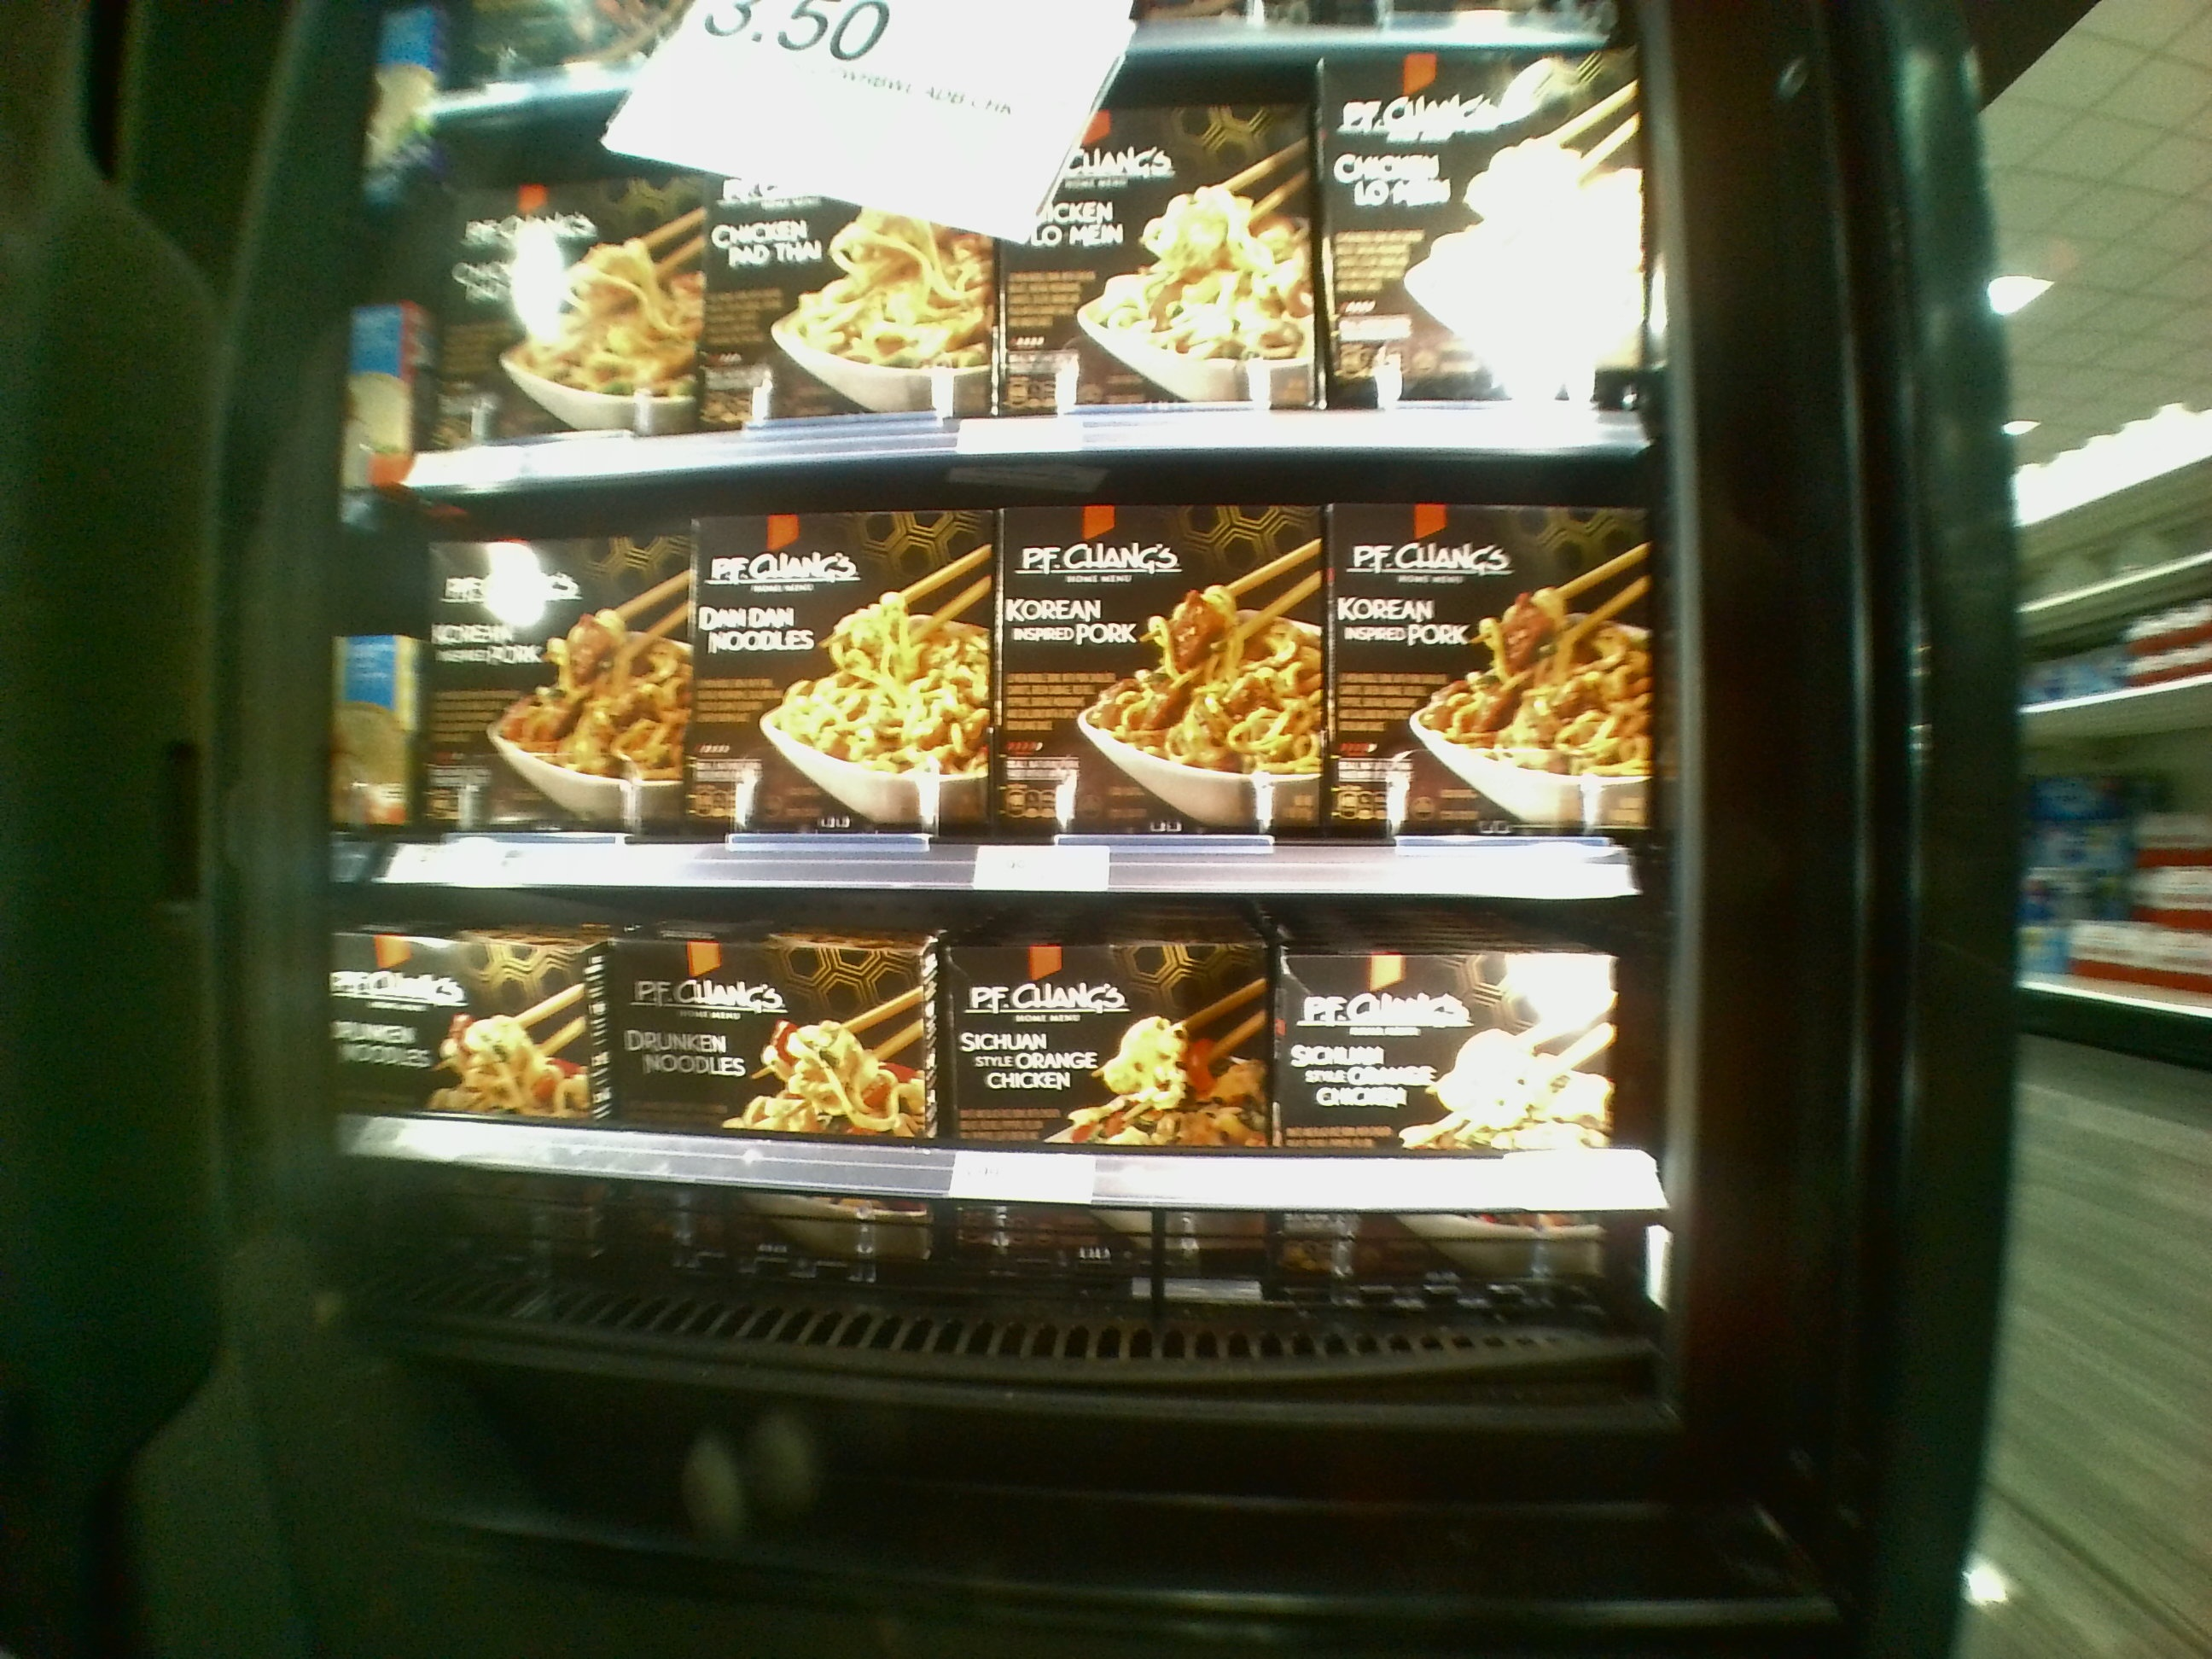shelf: (320, 870, 1686, 1215)
